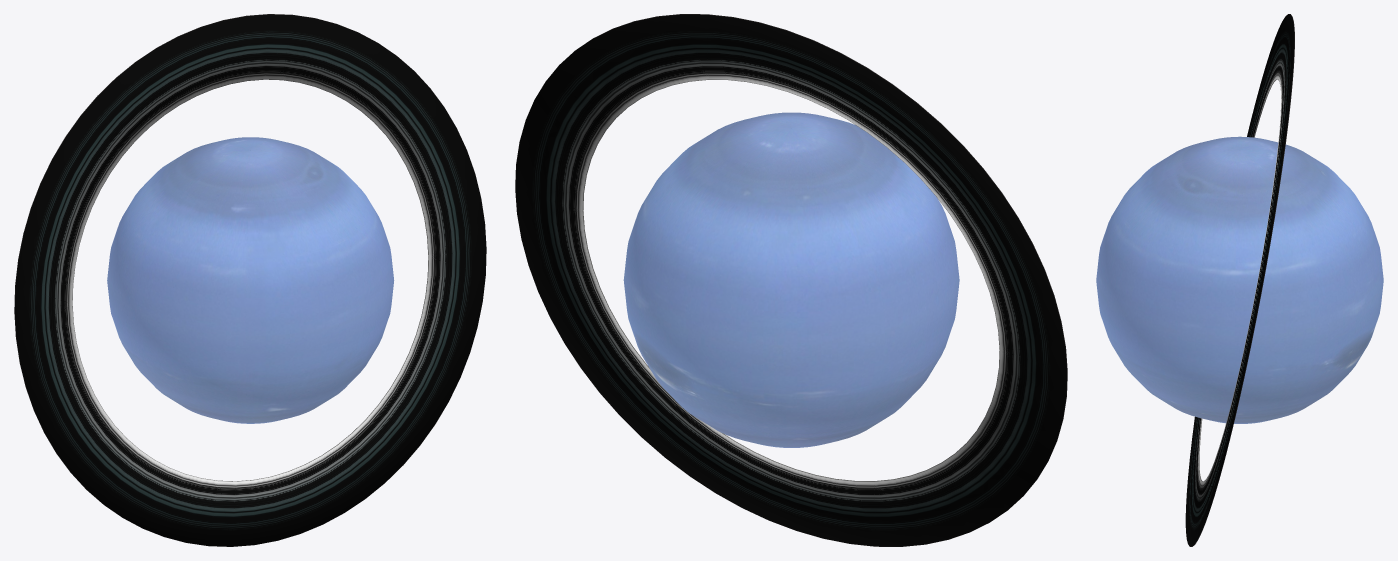
The model's file is uranus.glb.
3 renders of one model, left to right at view 1: azimuth 30°, elevation 25°; view 2: azimuth 150°, elevation 25°; view 3: azimuth 270°, elevation 25°, orthographic. The views are drawn at different scales.
Visible parts, largest first — view 1: Uranus; view 2: Uranus; view 3: Uranus.
Part boxes in pixels (bbox=[...]): Uranus: bbox=[14, 14, 486, 546]; Uranus: bbox=[515, 14, 1067, 546]; Uranus: bbox=[1096, 14, 1383, 546].
Size of the model in its own units: 253 by 248 by 134.
Materials: 2 (2 with a texture image).
